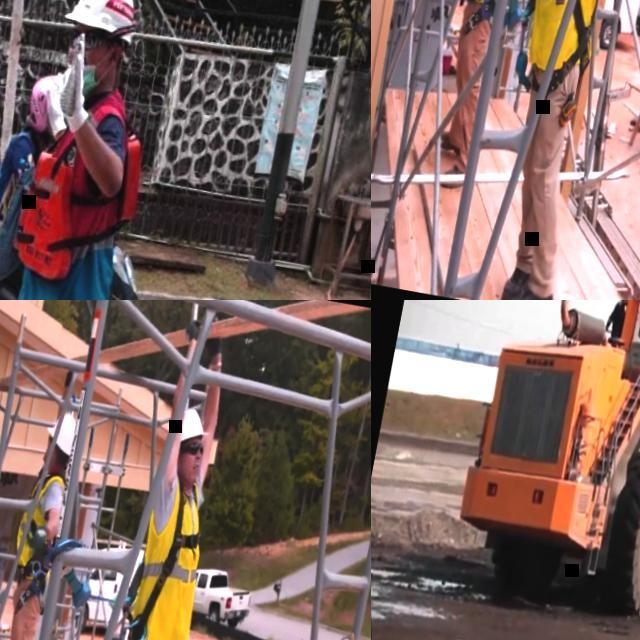helmet: (58, 0, 143, 42), (23, 67, 61, 132), (42, 409, 78, 456), (180, 408, 212, 448)
vest: (6, 88, 152, 288), (125, 479, 218, 640), (521, 0, 622, 78), (8, 468, 68, 584)
